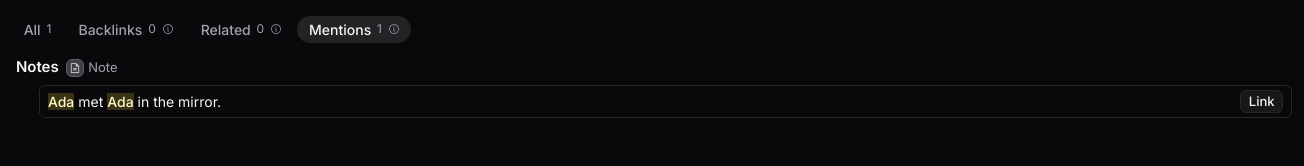
Scenario: MentionsTab: a mention reads as text and a line is listed once (M33) › if the second link fails for another reason, the toast says how many were made, and the row is offered again
expect the text "Notes" is shown: met, box x1=16 y1=56 x2=59 y2=79
Click the button "Link" at (1262, 101), box x1=1240 y1=90 x2=1283 y2=113
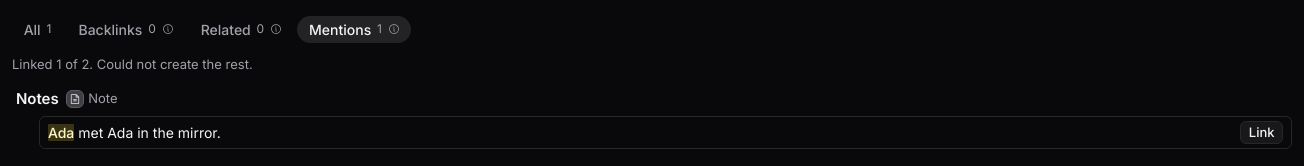
expect the button "Link" is enabled: met, box x1=1240 y1=121 x2=1283 y2=144
expect the message reads "Linked 1 of 2. Could not create the rest.": met, box x1=12 y1=56 x2=253 y2=72
